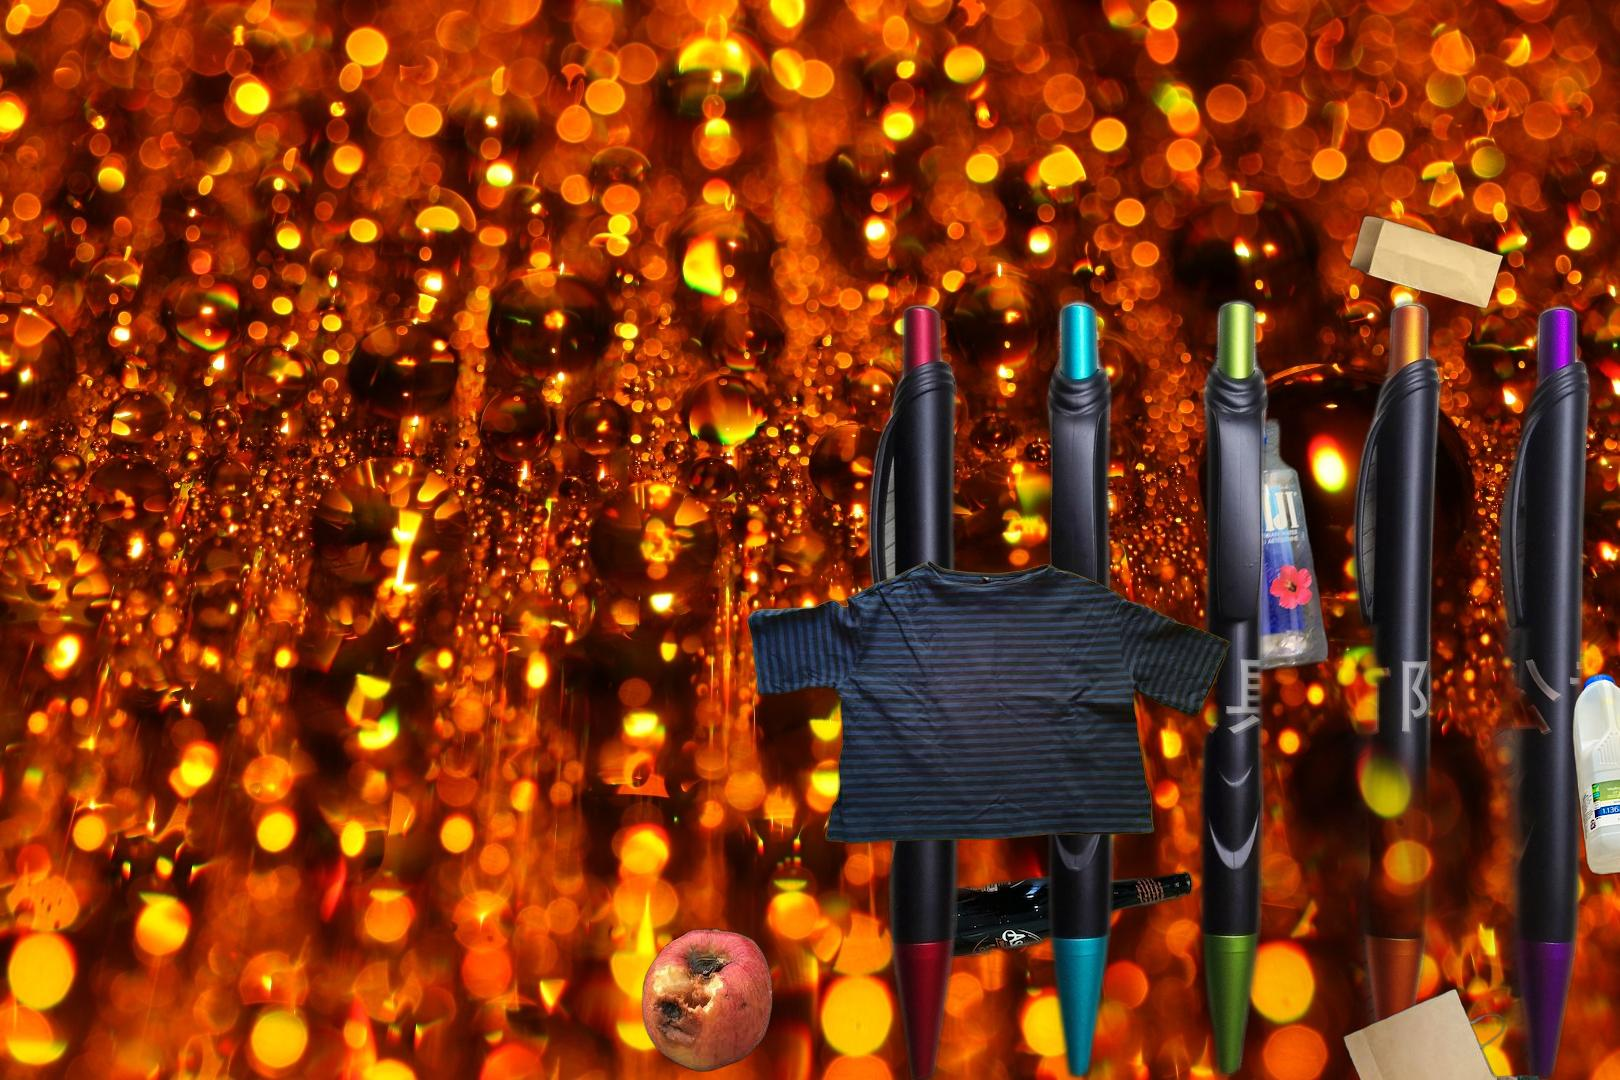biological: (639, 926, 775, 1074)
clothes: (741, 557, 1235, 846)
glass: (931, 865, 1198, 964)
paper-bag: (1340, 985, 1540, 1080), (1348, 213, 1505, 311)
penholder: (859, 290, 1620, 1080)
plastic-bottles: (1210, 412, 1332, 679), (1569, 667, 1620, 880)
